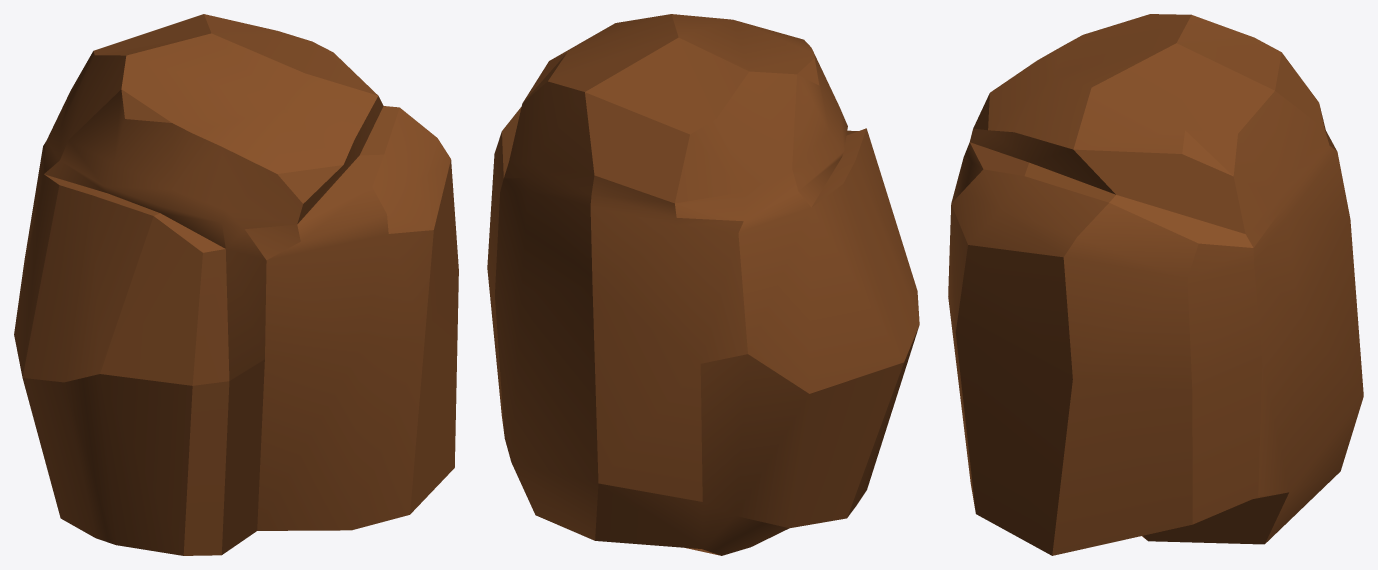
Rendered from rock.glb.
The picture shows the model from 3 angles, left to right: view 1: azimuth 30°, elevation 25°; view 2: azimuth 150°, elevation 25°; view 3: azimuth 270°, elevation 25°; orthographic projection. The views are drawn at different scales.
Parts seen in each view (by area): view 1: Rock_3; view 2: Rock_3; view 3: Rock_3.
Part boxes in pixels (x1,y1,x2,y2): Rock_3: (14,14,458,555); Rock_3: (487,14,919,555); Rock_3: (948,14,1363,555).
Size of the model in its own units: 3.3 by 3.83 by 3.01.
Materials: 1 (1 with a texture image).
